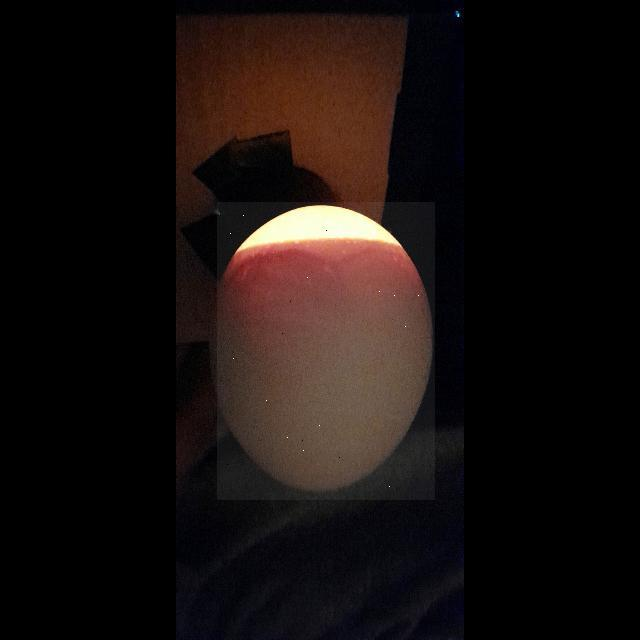Fertile: (217, 202, 435, 500)
